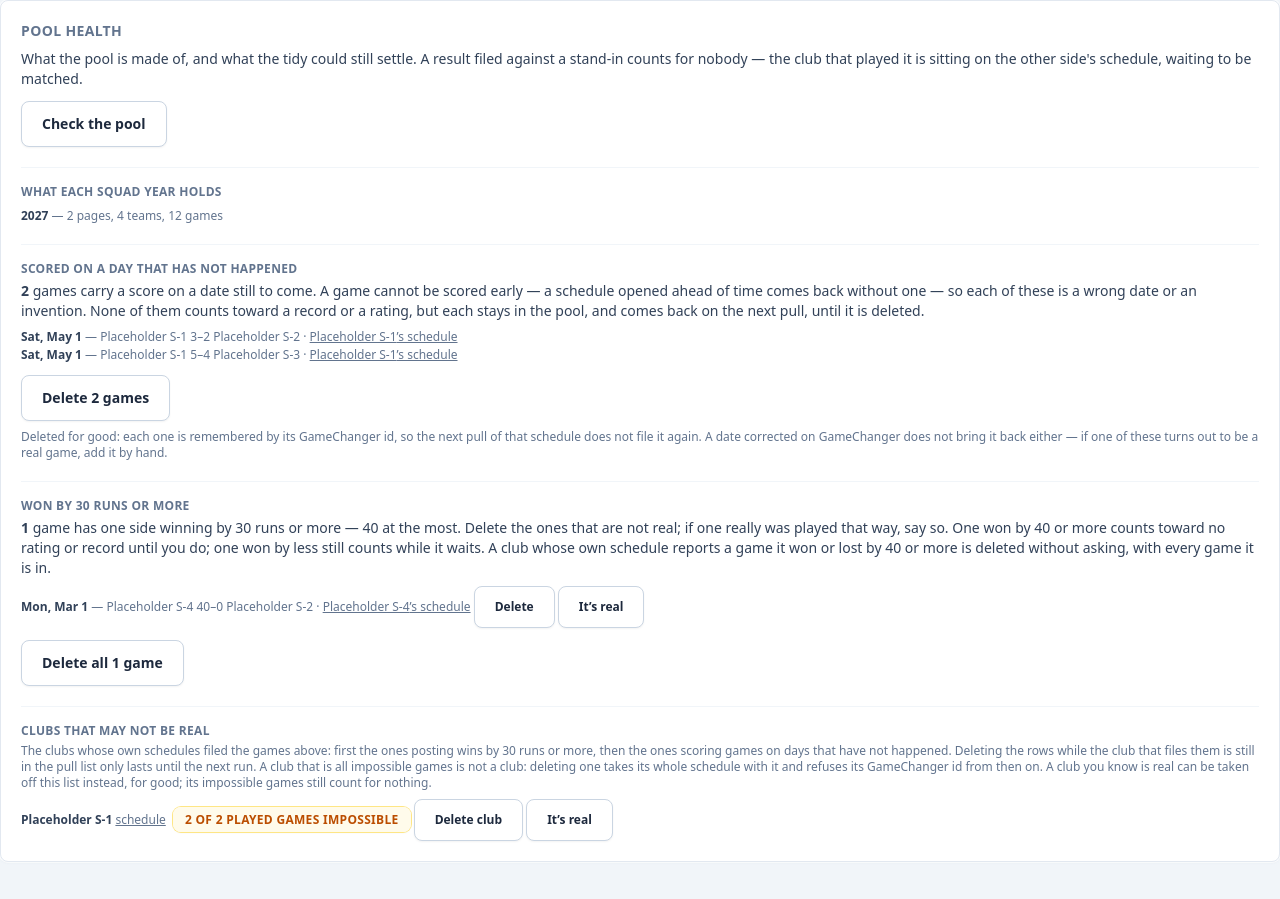
Test: Pool health from the server's pool › looks harder when asked, counting every club worth pulling though it is sent five
The image size is (1280, 899).
Click the button "Check the pool".
click(94, 124)  # box [21,101,167,147]
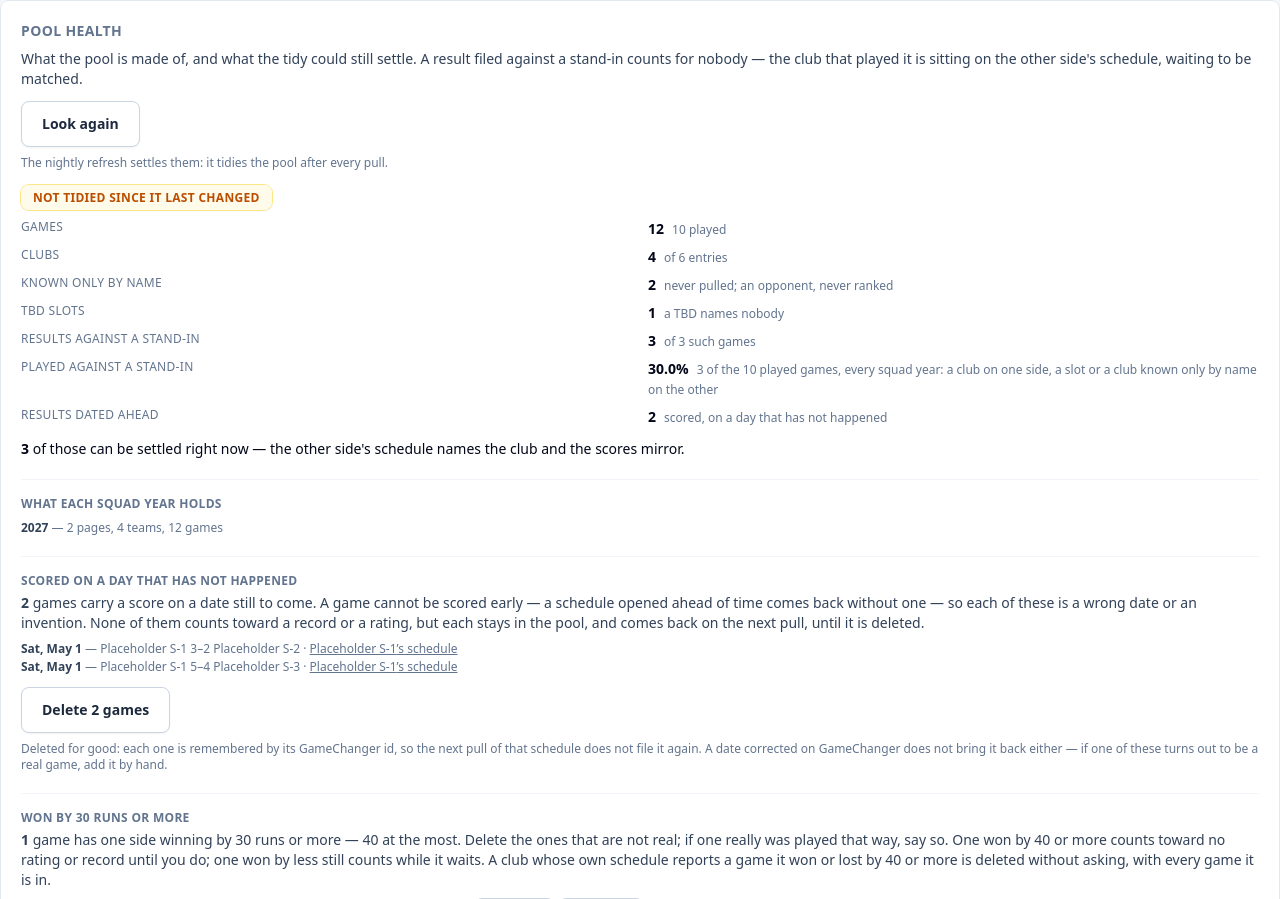
Now the text "Results against a stand-in" is shown, box [21,330,200,347]
Now the text "The nightly refresh settles them" is shown, box [21,154,388,171]
